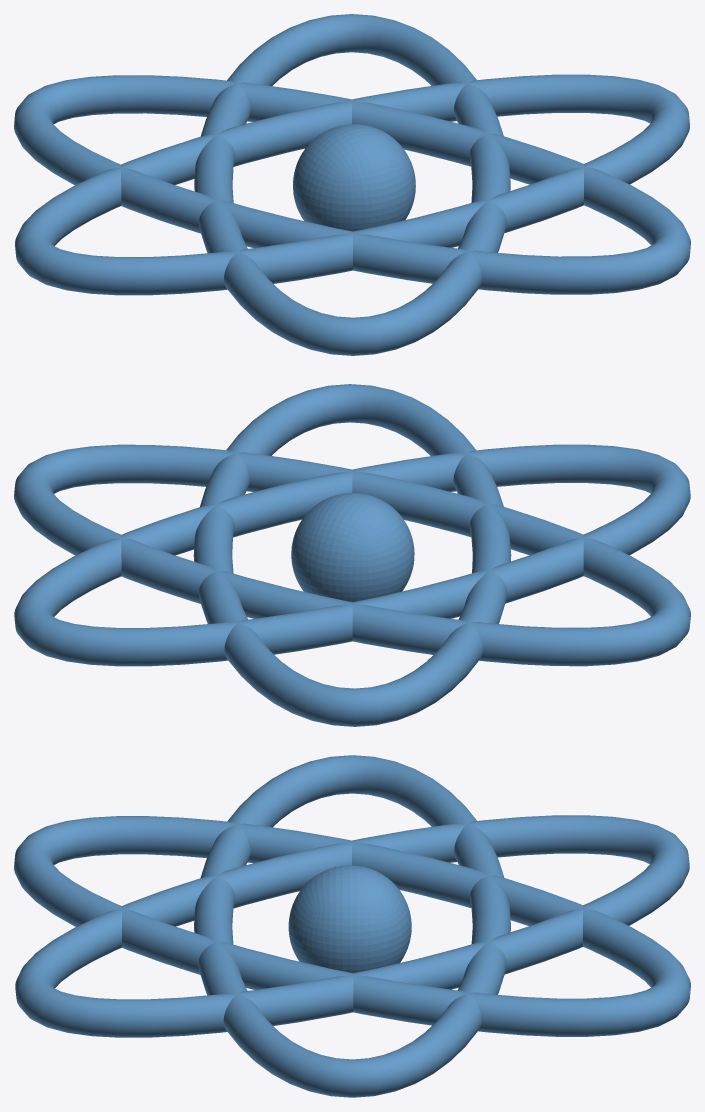
The model's file is react.fbx.
3 views of the same model, one above another, from view 1: azimuth 30°, elevation 25°; view 2: azimuth 150°, elevation 25°; view 3: azimuth 270°, elevation 25° (orthographic).
Parts seen in each view (by area): view 1: BezierCircle.001, BezierCircle.002, BezierCircle.003, Cube; view 2: BezierCircle.001, BezierCircle.003, BezierCircle.002, Cube; view 3: BezierCircle.003, BezierCircle.002, BezierCircle.001, Cube.
Boxes of the visible parts, x1,y1,x2,y2 form: BezierCircle.001: [15, 74, 689, 295]; BezierCircle.002: [14, 75, 690, 294]; BezierCircle.003: [194, 14, 510, 355]; Cube: [293, 124, 415, 231]; BezierCircle.001: [14, 444, 690, 666]; BezierCircle.003: [14, 444, 690, 666]; BezierCircle.002: [193, 384, 511, 726]; Cube: [291, 492, 414, 602]; BezierCircle.003: [14, 816, 690, 1036]; BezierCircle.002: [15, 815, 689, 1037]; BezierCircle.001: [194, 755, 510, 1097]; Cube: [288, 865, 411, 973].
Size of the model in its own units: 101 by 16.41 by 90.1.
